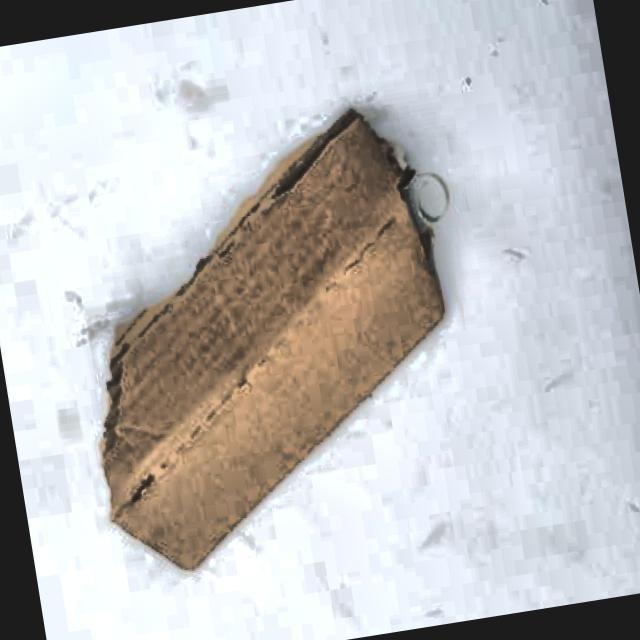cardboard: (49, 98, 484, 588)
